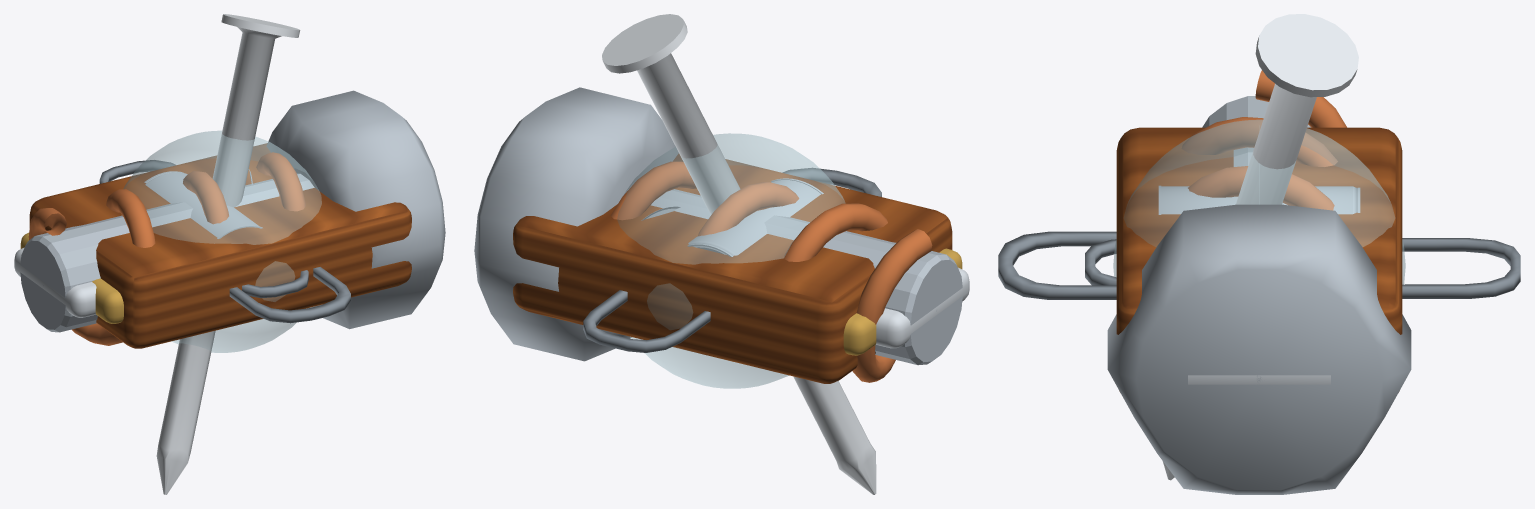
File: magnetic-sample-kit.glb
The picture shows the model from 3 angles, left to right: view 1: azimuth 30°, elevation 25°; view 2: azimuth 150°, elevation 25°; view 3: azimuth 270°, elevation 25°; orthographic projection. The views are drawn at different scales.
Visible parts, largest first — view 1: wood_block_mesh, steel_screw, glass_bead_mesh, iron_nail, copper_wire_mesh, carbon_steel_clip, steel_food_can, aluminium_strip_mesh, brass_plate_mesh; view 2: wood_block_mesh, steel_screw, glass_bead_mesh, iron_nail, copper_wire_mesh, carbon_steel_clip, steel_food_can, aluminium_strip_mesh, brass_plate_mesh; view 3: steel_screw, wood_block_mesh, glass_bead_mesh, iron_nail, carbon_steel_clip, copper_wire_mesh, steel_food_can, aluminium_strip_mesh.
Part boxes in pixels (box(x1,y1,x2,y2)): wood_block_mesh: box(29, 143, 411, 348); steel_screw: box(20, 90, 445, 332); glass_bead_mesh: box(123, 130, 321, 352); iron_nail: box(156, 14, 300, 494); copper_wire_mesh: box(28, 152, 305, 345); carbon_steel_clip: box(99, 160, 350, 323); steel_food_can: box(144, 169, 262, 238); aluminium_strip_mesh: box(14, 247, 96, 317); brass_plate_mesh: box(20, 232, 123, 323); wood_block_mesh: box(513, 154, 952, 383); steel_screw: box(474, 87, 962, 365); glass_bead_mesh: box(617, 133, 845, 388); iron_nail: box(602, 14, 876, 494); copper_wire_mesh: box(610, 161, 932, 382); carbon_steel_clip: box(583, 168, 881, 352); steel_food_can: box(641, 178, 823, 256); aluminium_strip_mesh: box(876, 267, 969, 348); brass_plate_mesh: box(843, 248, 962, 355); steel_screw: box(1107, 96, 1411, 494); wood_block_mesh: box(1116, 127, 1402, 391); glass_bead_mesh: box(1113, 119, 1405, 284); iron_nail: box(1162, 14, 1358, 480); carbon_steel_clip: box(998, 231, 1520, 299); copper_wire_mesh: box(1182, 70, 1346, 210); steel_food_can: box(1158, 185, 1360, 214); aluminium_strip_mesh: box(1188, 375, 1330, 384).
Bounding box in the file's own units: 1.55 × 1.72 × 1.5.
9 materials, 1 textured.
